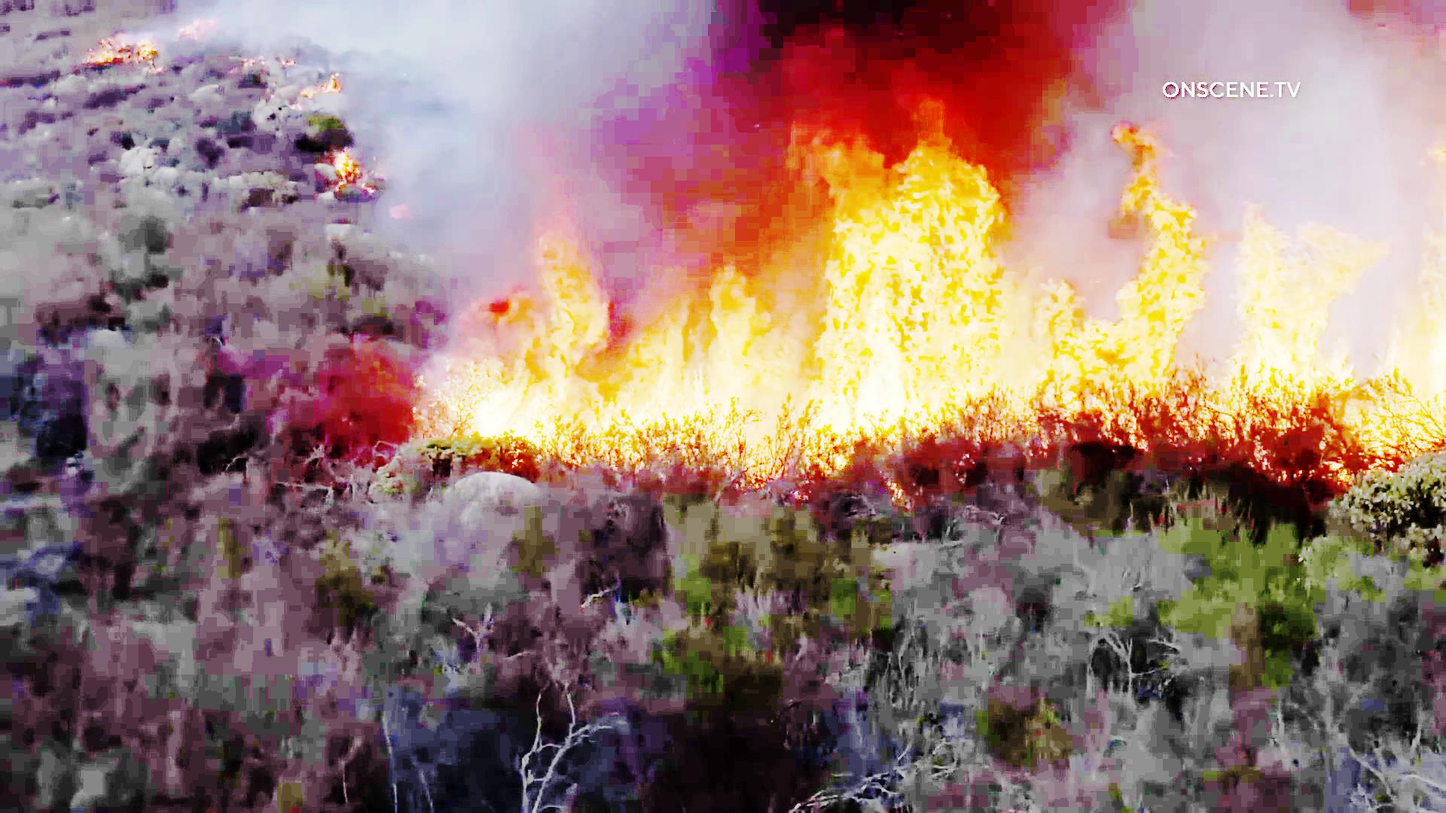fire: (479, 185, 1446, 443)
